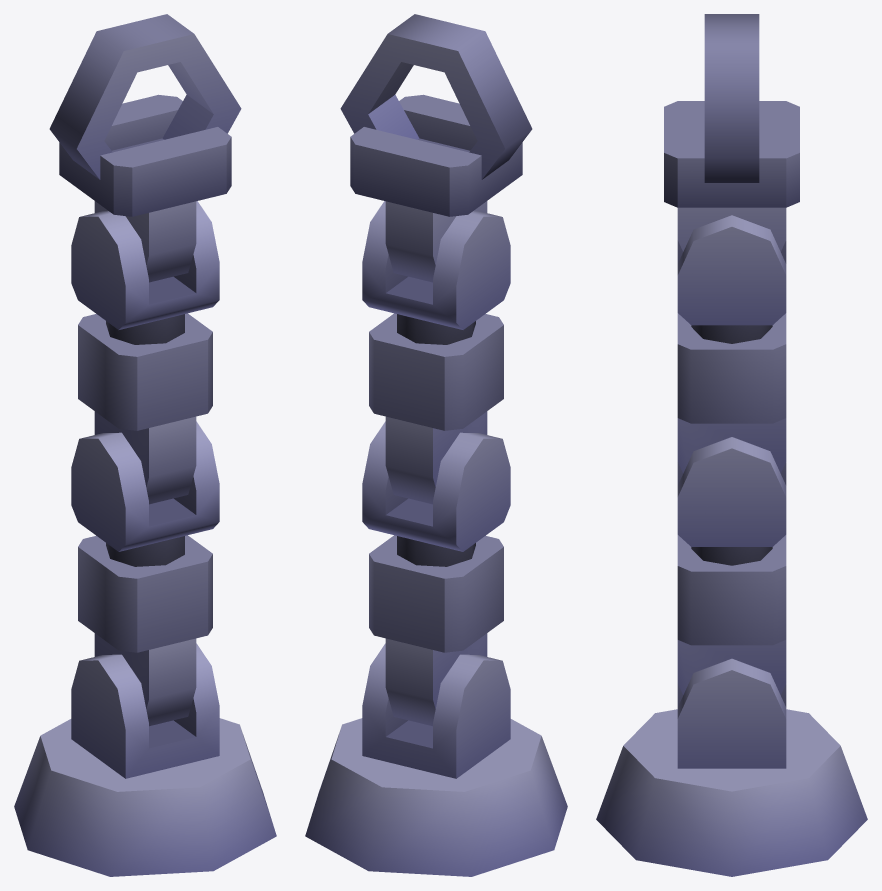
File: robot-arm-a.glb
3 renders of one model, left to right at view 1: azimuth 30°, elevation 25°; view 2: azimuth 150°, elevation 25°; view 3: azimuth 270°, elevation 25°, orthographic.
Parts seen in each view (by area): view 1: robot-arm-a, element-b, element-d, element-f, element-a, element-c, element-e, claw-b, claw-a; view 2: robot-arm-a, element-b, element-d, element-f, element-a, element-c, element-e, claw-b, claw-a; view 3: robot-arm-a, element-d, element-b, element-f, element-a, element-e, element-c, claw-a, claw-b.
Boxes of the visible parts, x1,y1,x2,y2 form: robot-arm-a: (14,718,276,876); element-b: (78,535,212,726); element-d: (78,313,212,504); element-f: (59,94,231,282); element-a: (71,643,219,778); element-c: (71,421,219,551); element-e: (71,201,219,329); claw-b: (49,22,158,179); claw-a: (132,14,241,139); robot-arm-a: (305,718,567,876); element-b: (369,535,503,726); element-d: (369,313,503,504); element-f: (350,94,522,282); element-a: (362,643,510,778); element-c: (362,421,510,551); element-e: (362,201,510,329); claw-b: (423,22,532,179); claw-a: (340,14,449,139); robot-arm-a: (596,709,867,876); element-d: (677,313,786,473); element-b: (677,535,786,694); element-f: (664,101,799,251); element-a: (677,658,786,768); element-e: (677,215,786,325); element-c: (677,437,786,546); claw-a: (704,31,759,182); claw-b: (704,14,759,31).
Bounding box in the file's own units: 1 × 3.2 × 1.
1 material, 1 textured.
